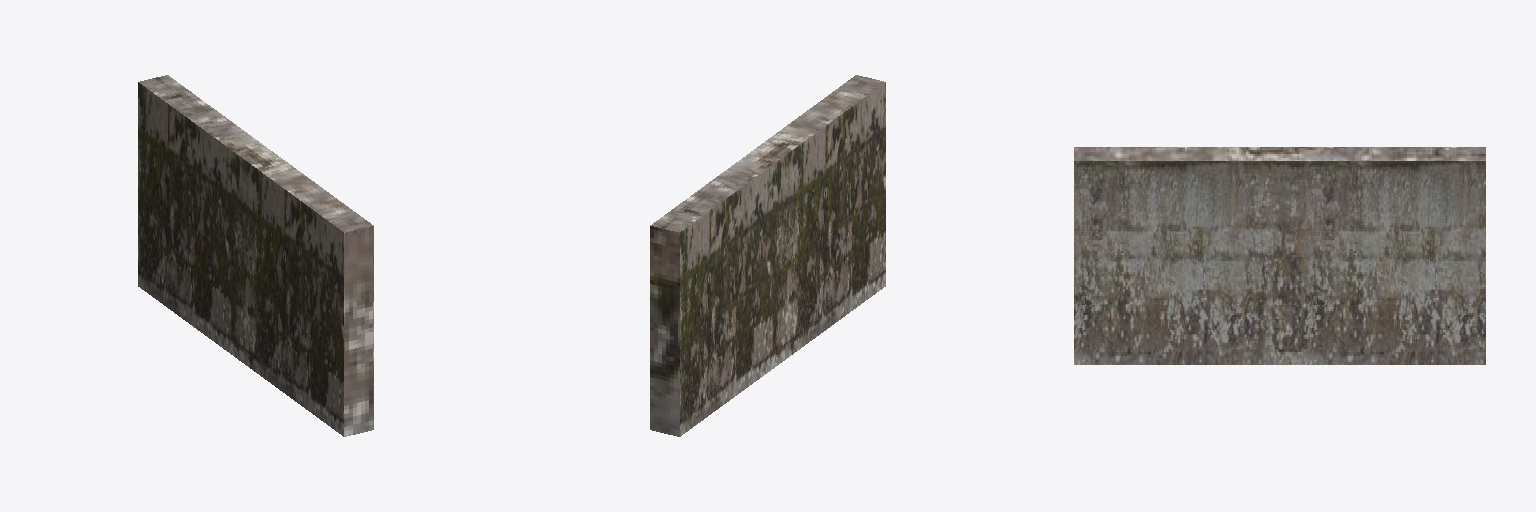
3 views of the same model, side by side, from view 1: azimuth 30°, elevation 25°; view 2: azimuth 150°, elevation 25°; view 3: azimuth 270°, elevation 25° (orthographic).
Visible parts, largest first — view 1: Wall_Cube.000; view 2: Wall_Cube.000; view 3: Wall_Cube.000.
Part boxes in pixels (bbox=[...]): Wall_Cube.000: bbox=[138, 75, 373, 436]; Wall_Cube.000: bbox=[650, 75, 885, 436]; Wall_Cube.000: bbox=[1074, 147, 1485, 364].
Size of the model in its own units: 0.301 by 2 by 3.65.
Materials: 1 (1 with a texture image).